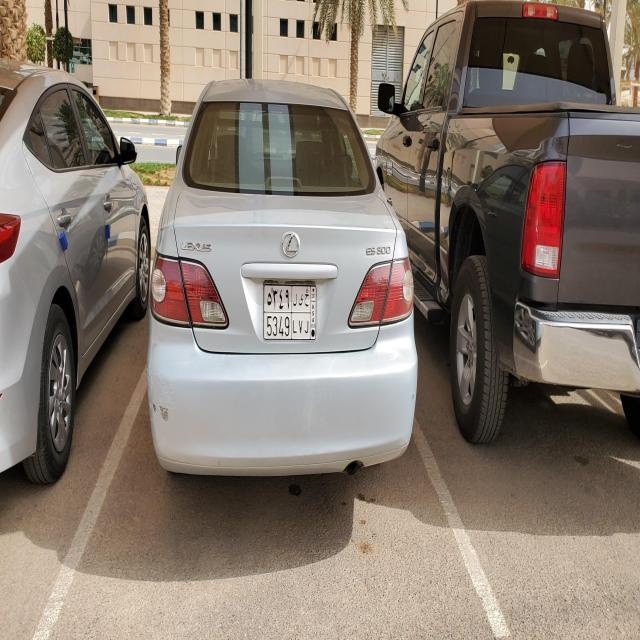license_plate: (262, 281, 316, 340)
